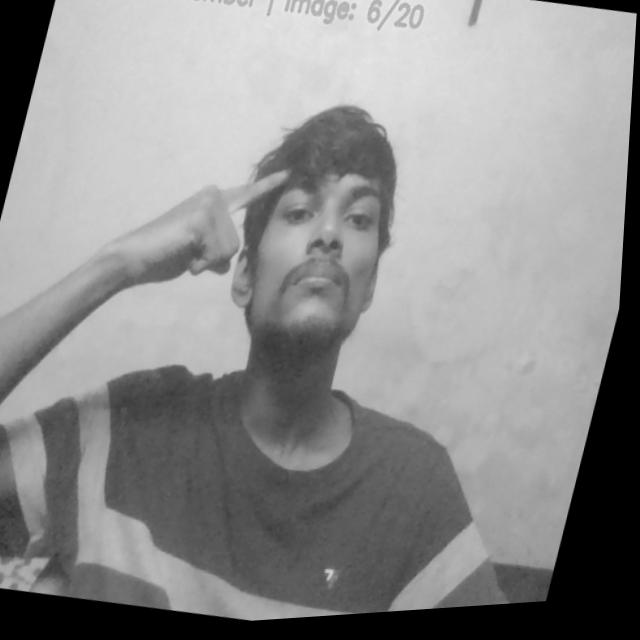Remember: (111, 119, 302, 323)
